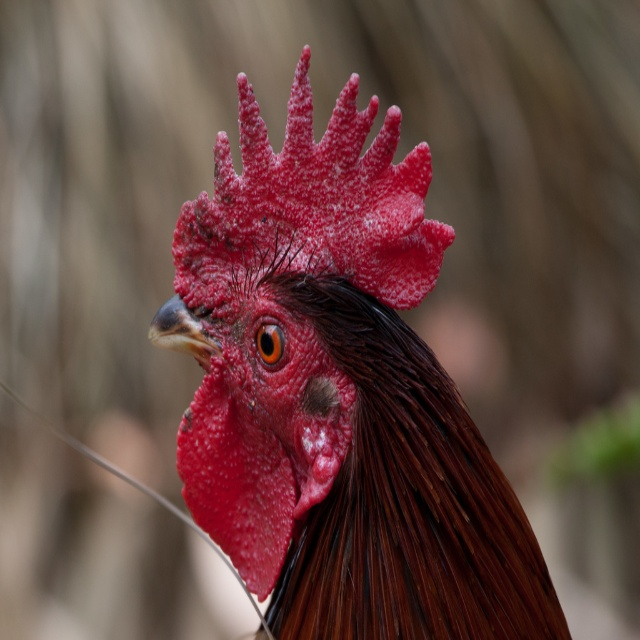Chicken: (148, 45, 573, 640)
